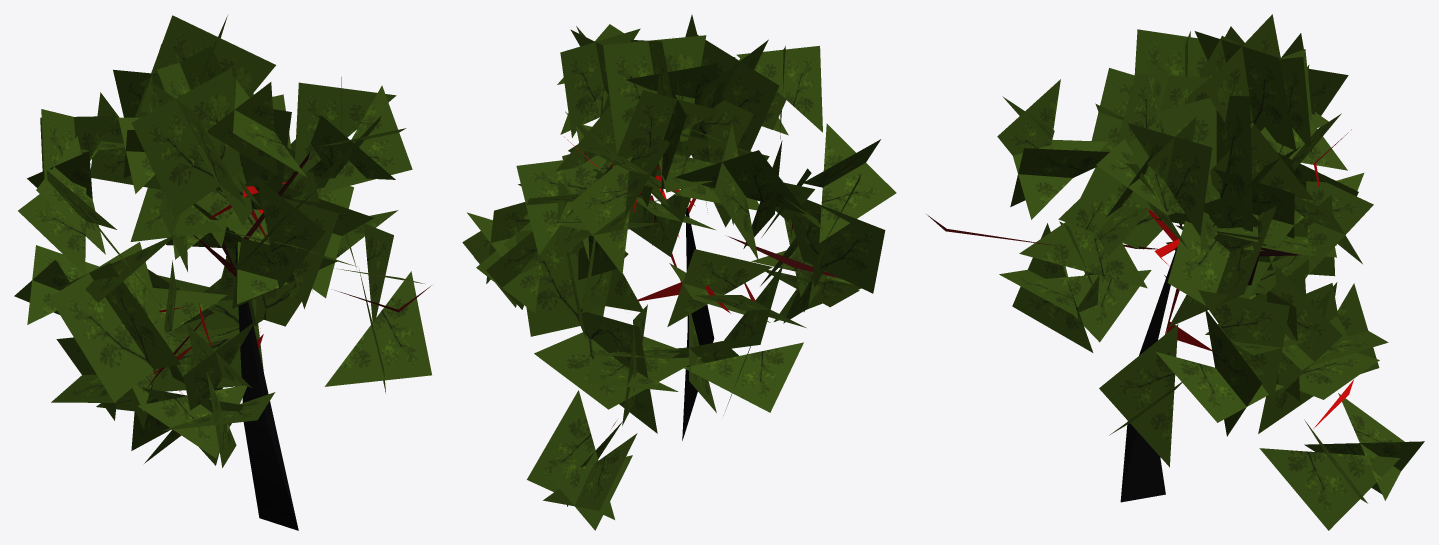
The model's file is oak4 lod4.FBX.
The picture shows the model from 3 angles, left to right: view 1: azimuth 30°, elevation 25°; view 2: azimuth 150°, elevation 25°; view 3: azimuth 270°, elevation 25°; orthographic projection. The views are drawn at different scales.
Visible parts, largest first — view 1: oak 4_LOD4; view 2: oak 4_LOD4; view 3: oak 4_LOD4.
Boxes of the visible parts, bbox=[...] form: oak 4_LOD4: bbox=[14, 15, 431, 530]; oak 4_LOD4: bbox=[462, 15, 896, 530]; oak 4_LOD4: bbox=[926, 14, 1424, 530].
Bounding box in the file's own units: 73882 × 84995 × 79823.
